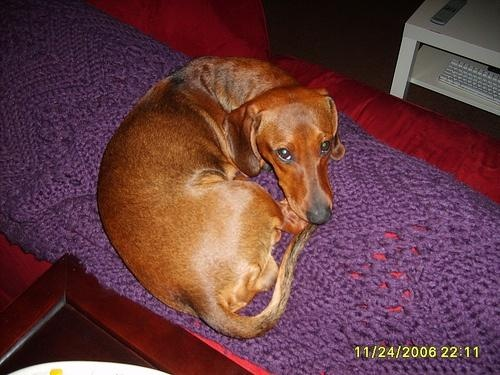dog: (98, 55, 347, 340)
